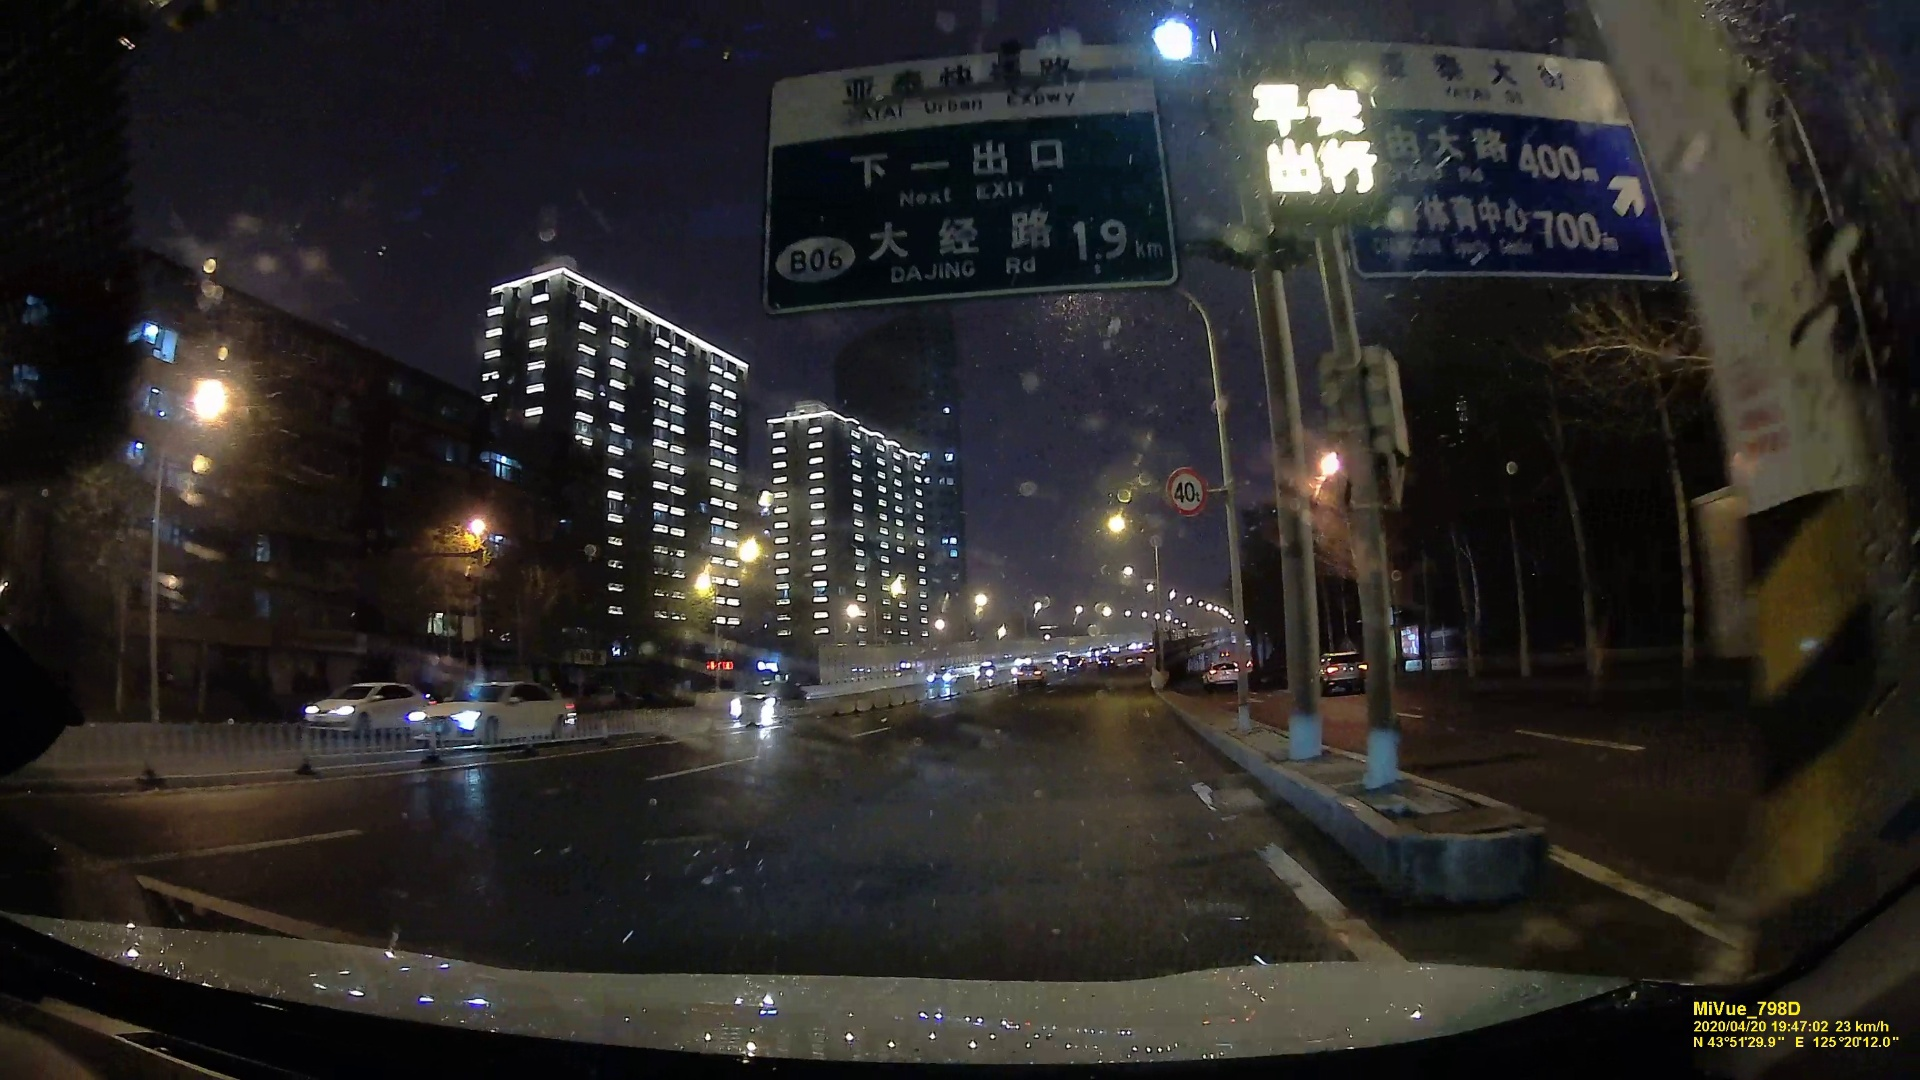traffic_sign: (785, 66, 1153, 290), (1332, 51, 1660, 270)
vehicle: (407, 679, 578, 750), (301, 678, 423, 736), (728, 679, 810, 723), (1320, 653, 1365, 690), (1207, 659, 1244, 688), (1015, 663, 1044, 684)
